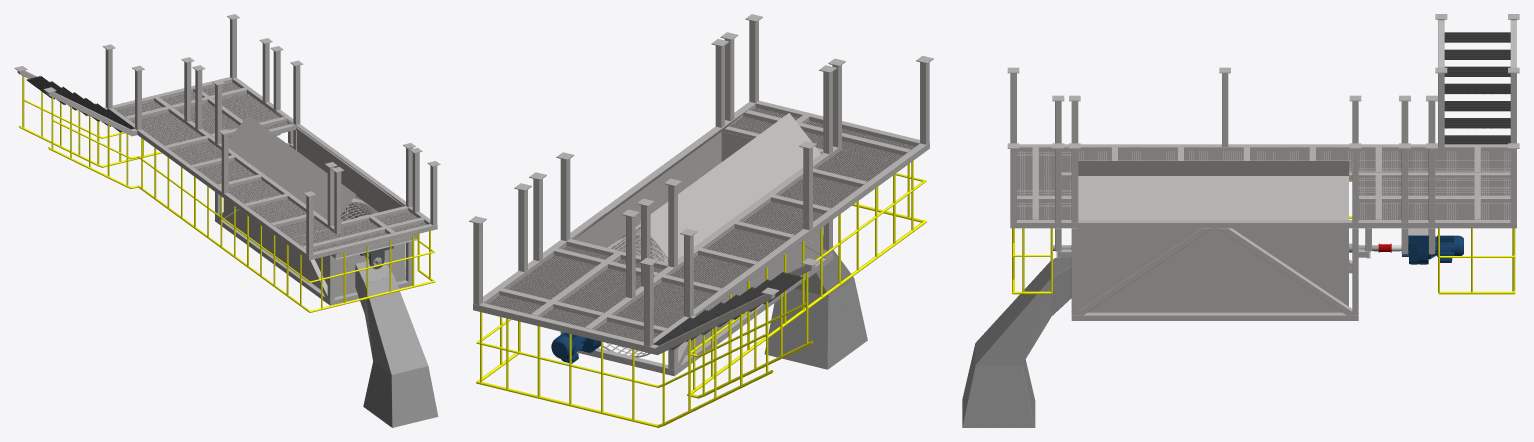
The model's file is DESFRUTADOR 2.glb.
3 views of the same model, side by side, from view 1: azimuth 30°, elevation 25°; view 2: azimuth 150°, elevation 25°; view 3: azimuth 270°, elevation 25° (orthographic). The views are drawn at different scales.
Visible parts, largest first — view 1: Sólido1 (×3), Solid1 (×30); view 2: Solid1 (×40), Sólido1 (×3), Sólido3; view 3: Sólido1 (×2), Solid1 (×22), Sólido3.
Boxes of the visible parts, x1=… form: Sólido1 (×3): x1=223, y1=109, x2=438, y2=427; Solid1 (×30): x1=49, y1=19, x2=437, y2=312; Solid1 (×40): x1=473, y1=20, x2=929, y2=427; Sólido1 (×3): x1=574, y1=104, x2=867, y2=369; Sólido3: x1=551, y1=332, x2=600, y2=363; Sólido1 (×2): x1=962, y1=161, x2=1348, y2=427; Solid1 (×22): x1=1010, y1=32, x2=1516, y2=320; Sólido3: x1=1391, y1=235, x2=1463, y2=264.
Bounding box in the file's own units: 4.82 × 4.89 × 8.45.
13 materials, 1 textured.
